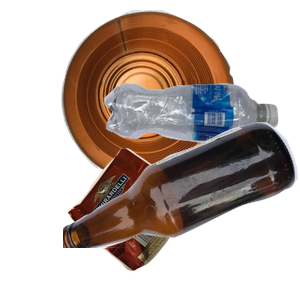glass: (63, 120, 300, 300)
metal: (58, 10, 289, 186)
plastic: (102, 81, 300, 216)
trash: (65, 145, 242, 300)
